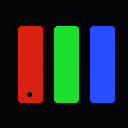0 point: (27, 92, 31, 96)
